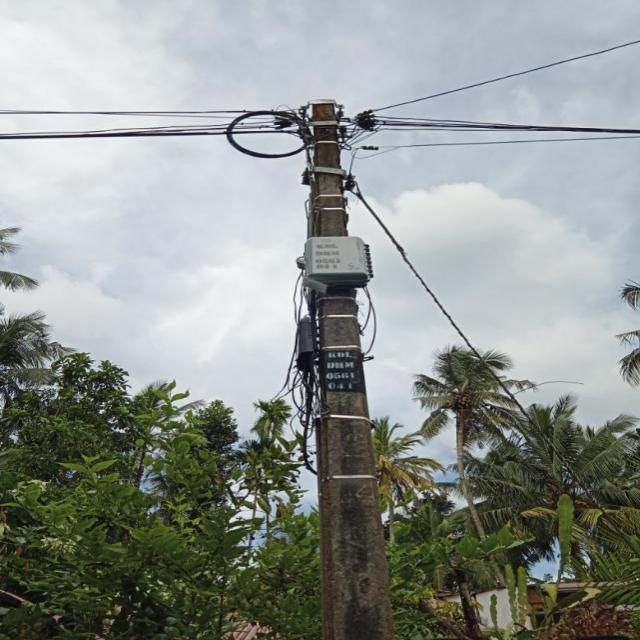light_pole: (278, 93, 409, 640)
